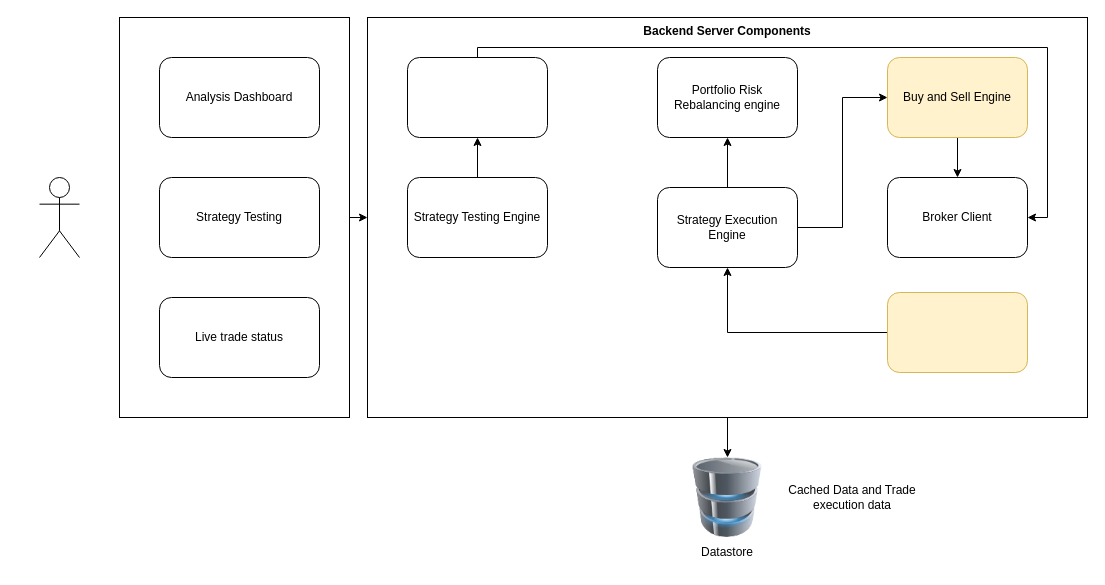
Some shapes in this 1105 by 585 pixel diagram are drawn without their labels. Here are the shapes that lost their labels. From the top down, the box of each, then its label:
(406, 56, 548, 138): Data Retrieval Engine
(38, 176, 80, 258): Trader / Analyst
(118, 16, 350, 418): UI Elements
(886, 292, 1028, 372): Scheduler
